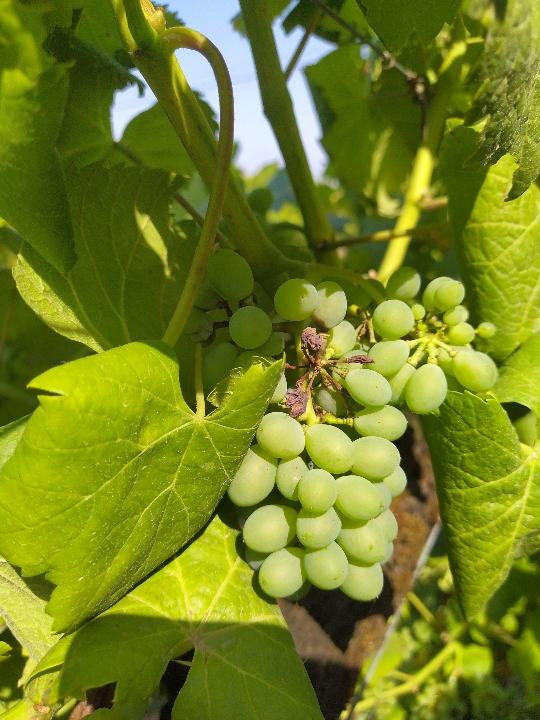grape: (181, 240, 509, 606)
